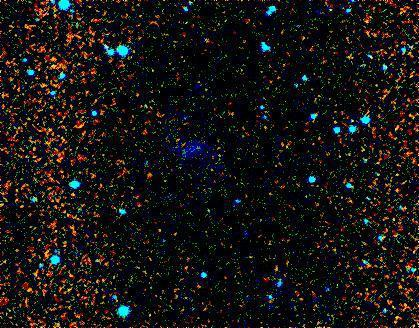star: (39, 49, 69, 79)
